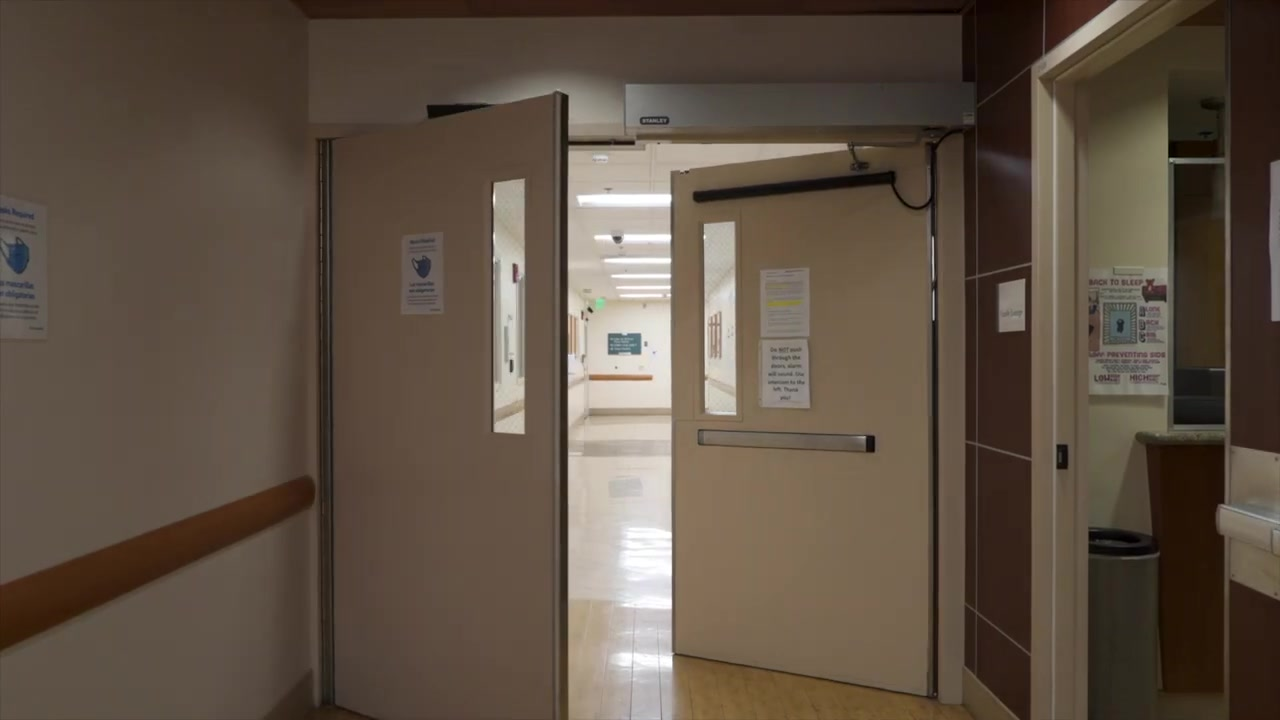countertop: (1134, 424, 1232, 446)
push_latch: (694, 430, 872, 455), (1216, 503, 1280, 556)
waste_bin: (1089, 525, 1160, 720)
